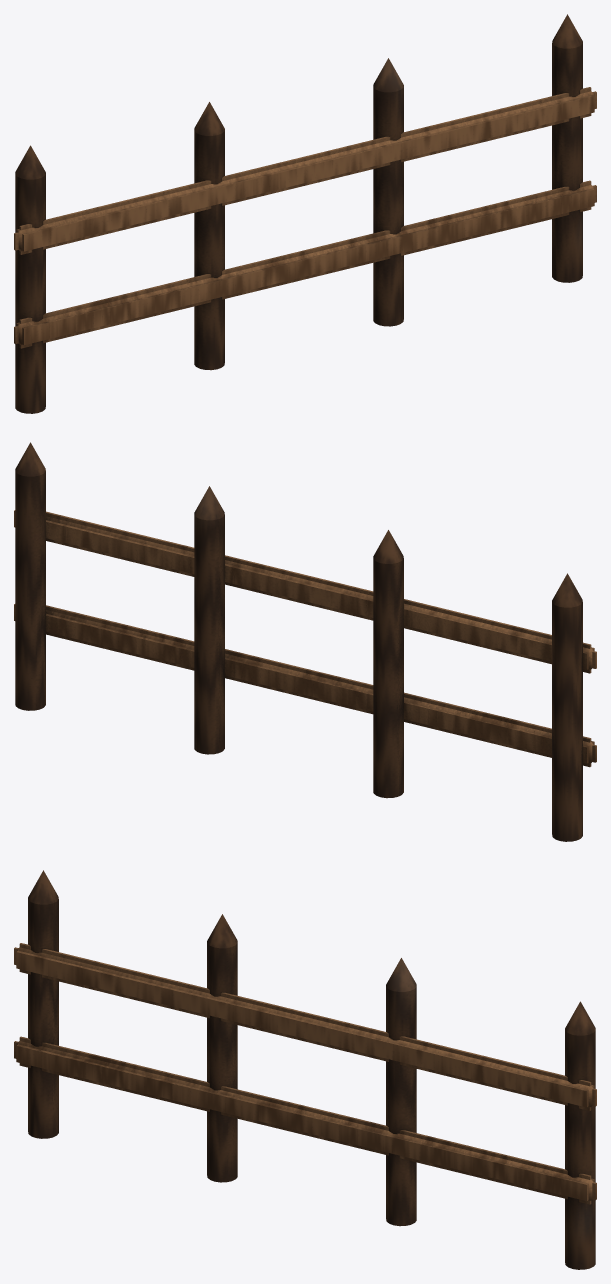
The model's file is cenario_cerca.glb.
The picture shows the model from 3 angles, top to bottom: view 1: azimuth 30°, elevation 25°; view 2: azimuth 150°, elevation 25°; view 3: azimuth 330°, elevation 25°; orthographic projection.
Parts seen in each view (by area): view 1: cenario_cerca; view 2: cenario_cerca; view 3: cenario_cerca.
Part boxes in pixels (bbox=[...]): cenario_cerca: bbox=[14, 14, 596, 413]; cenario_cerca: bbox=[14, 442, 596, 841]; cenario_cerca: bbox=[14, 870, 596, 1269].
Bounding box in the file's own units: 2.6 × 1.12 × 0.14.
1 material, 1 textured.
